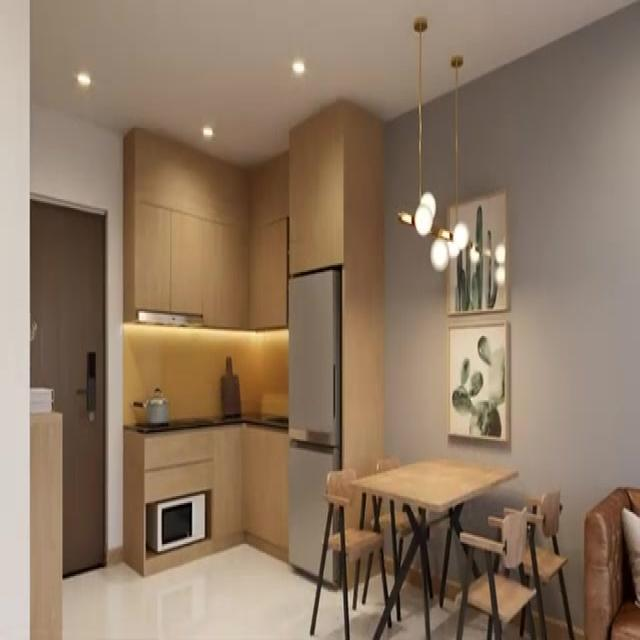door: (29, 194, 106, 576)
obstacle: (349, 455, 518, 638), (287, 265, 343, 588), (304, 467, 393, 640), (458, 512, 538, 640), (583, 486, 639, 638)
